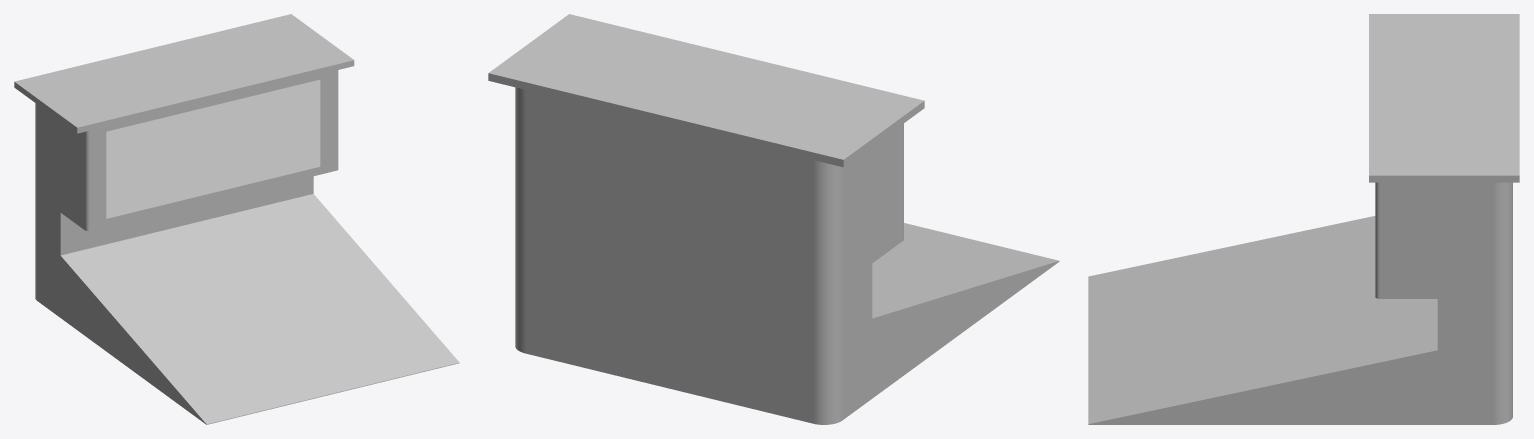
The model's file is Dock and Lid Unity.fbx.
3 renders of one model, left to right at view 1: azimuth 30°, elevation 25°; view 2: azimuth 150°, elevation 25°; view 3: azimuth 270°, elevation 25°, orthographic. The views are drawn at different scales.
Visible parts, largest first — view 1: Docking Station, Docking Station Lid; view 2: Docking Station, Docking Station Lid; view 3: Docking Station, Docking Station Lid.
Boxes of the visible parts, left/top/right/bottom form: Docking Station: left=35, top=70, right=459, bottom=424; Docking Station Lid: left=14, top=14, right=354, bottom=133; Docking Station: left=515, top=87, right=1059, bottom=424; Docking Station Lid: left=488, top=14, right=924, bottom=167; Docking Station: left=1088, top=182, right=1512, bottom=424; Docking Station Lid: left=1369, top=14, right=1519, bottom=182.
Bounding box in the file's own units: 45.75 × 33.81 × 51.59.
